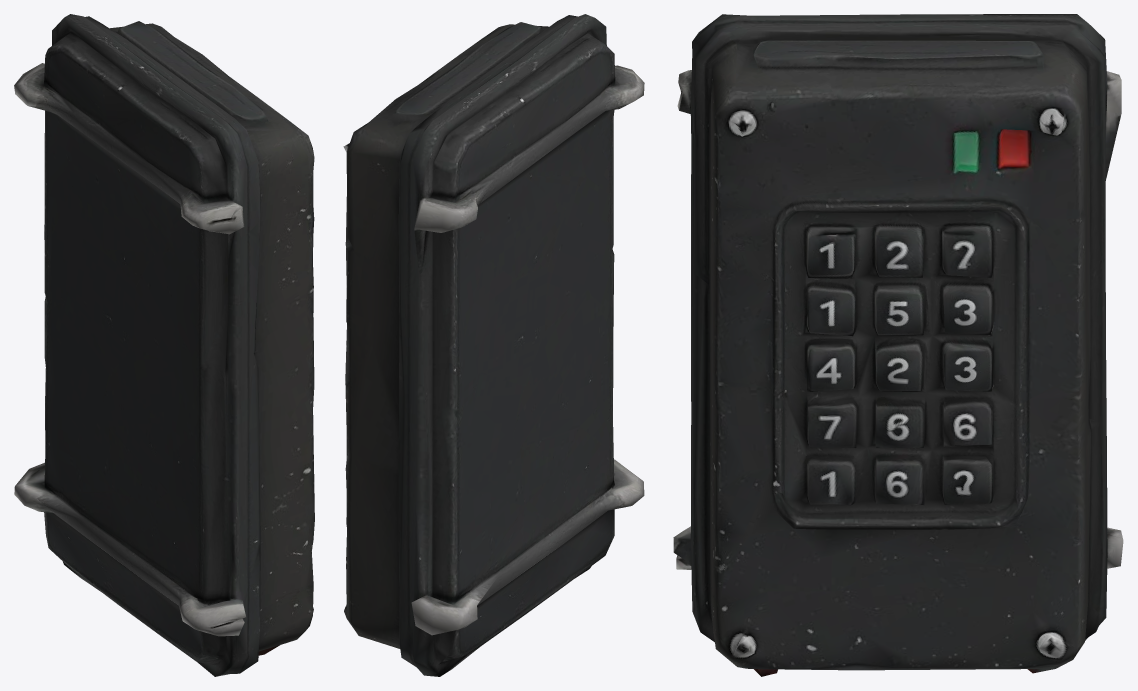
Rendered from code_lock.56e7de485a.glb.
The picture shows the model from 3 angles, left to right: view 1: azimuth 30°, elevation 25°; view 2: azimuth 150°, elevation 25°; view 3: azimuth 270°, elevation 25°; orthographic projection. The views are drawn at different scales.
Parts seen in each view (by area): view 1: code_lock; view 2: code_lock; view 3: code_lock.
Part boxes in pixels (bbox=[...]): code_lock: bbox=[14, 14, 314, 676]; code_lock: bbox=[343, 14, 644, 676]; code_lock: bbox=[673, 14, 1123, 676].
Bounding box in the file's own units: 0.0419 × 0.15 × 0.0971.
Materials: 1 (1 with a texture image).
